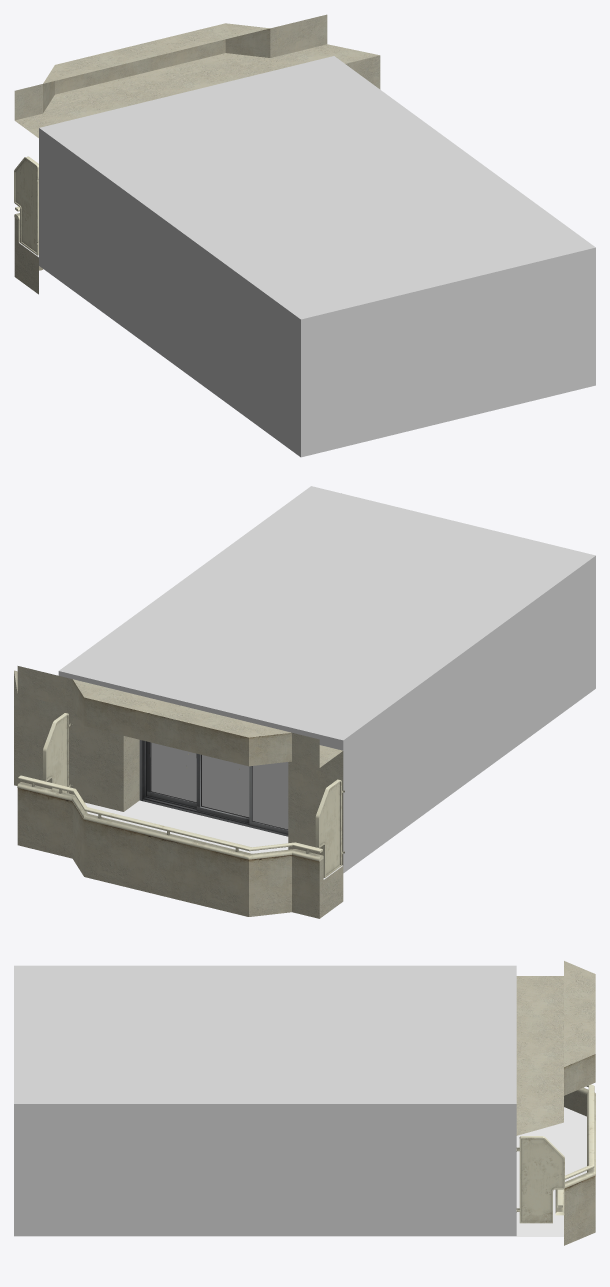
Rendered from L4D_Vannah_Room.fbx.
The picture shows the model from 3 angles, top to bottom: view 1: azimuth 30°, elevation 25°; view 2: azimuth 150°, elevation 25°; view 3: azimuth 270°, elevation 25°; orthographic projection. The views are drawn at different scales.
Parts seen in each view (by area): view 1: shell, VBSP_Object.model_0.004, VBSP_Object.model_instance_856.body.dmx/hotel_balcony_divide; view 2: shell, VBSP_Object.model_0.004, VBSP_Object.model_instance_787.Body.Hotel_door_sliding.smd.m, VBSP_Object.model_instance_393.body.dmx/hotel_balcony_rail00, VBSP_Object.model_instance_856.body.dmx/hotel_balcony_divide, VBSP_Object.model_instance_892.body.dmx/hotel_balcony_divide; view 3: shell, VBSP_Object.model_0.004, VBSP_Object.model_instance_892.body.dmx/hotel_balcony_divide, VBSP_Object.model_instance_393.body.dmx/hotel_balcony_rail00.
Part boxes in pixels (x1,y1,x2,y2): shell: (39, 56, 595, 457); VBSP_Object.model_0.004: (14, 14, 380, 294); VBSP_Object.model_instance_856.body.dmx/hotel_balcony_divide: (14, 156, 38, 255); shell: (58, 486, 595, 873); VBSP_Object.model_0.004: (14, 666, 343, 918); VBSP_Object.model_instance_787.Body.Hotel_door_sliding.smd.m: (139, 740, 288, 836); VBSP_Object.model_instance_393.body.dmx/hotel_balcony_rail00: (17, 775, 323, 861); VBSP_Object.model_instance_856.body.dmx/hotel_balcony_divide: (315, 779, 344, 877); VBSP_Object.model_instance_892.body.dmx/hotel_balcony_divide: (43, 713, 72, 793); shell: (14, 965, 516, 1236); VBSP_Object.model_0.004: (516, 961, 595, 1245); VBSP_Object.model_instance_892.body.dmx/hotel_balcony_divide: (516, 1136, 564, 1223); VBSP_Object.model_instance_393.body.dmx/hotel_balcony_rail00: (555, 1084, 595, 1215).
Bounding box in the file's own units: 886 × 459 × 1356.
